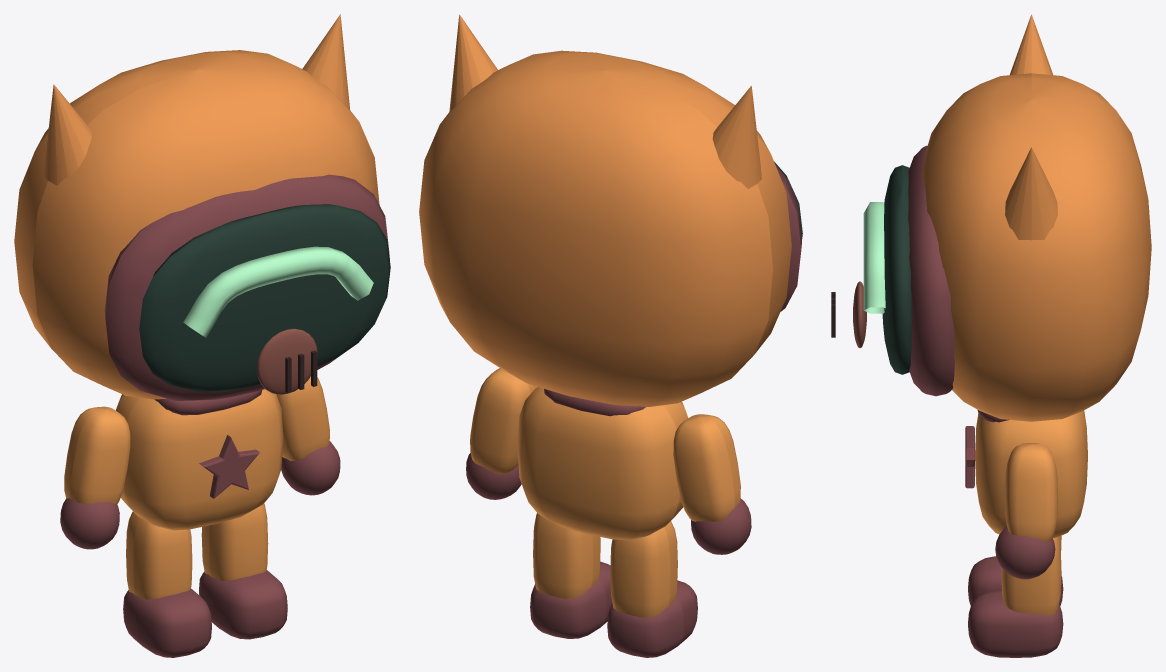
3 renders of one model, left to right at view 1: azimuth 30°, elevation 25°; view 2: azimuth 150°, elevation 25°; view 3: azimuth 270°, elevation 25°, orthographic. The views are drawn at different scales.
Visible parts, largest first — view 1: 가스 레인저; view 2: 가스 레인저; view 3: 가스 레인저.
Part boxes in pixels (box(x1,y1,x2,y2)): 가스 레인저: box(14, 14, 390, 657); 가스 레인저: box(419, 14, 802, 657); 가스 레인저: box(831, 14, 1151, 657).
Bounding box in the file's own units: 1.06 × 1.8 × 0.9425.
